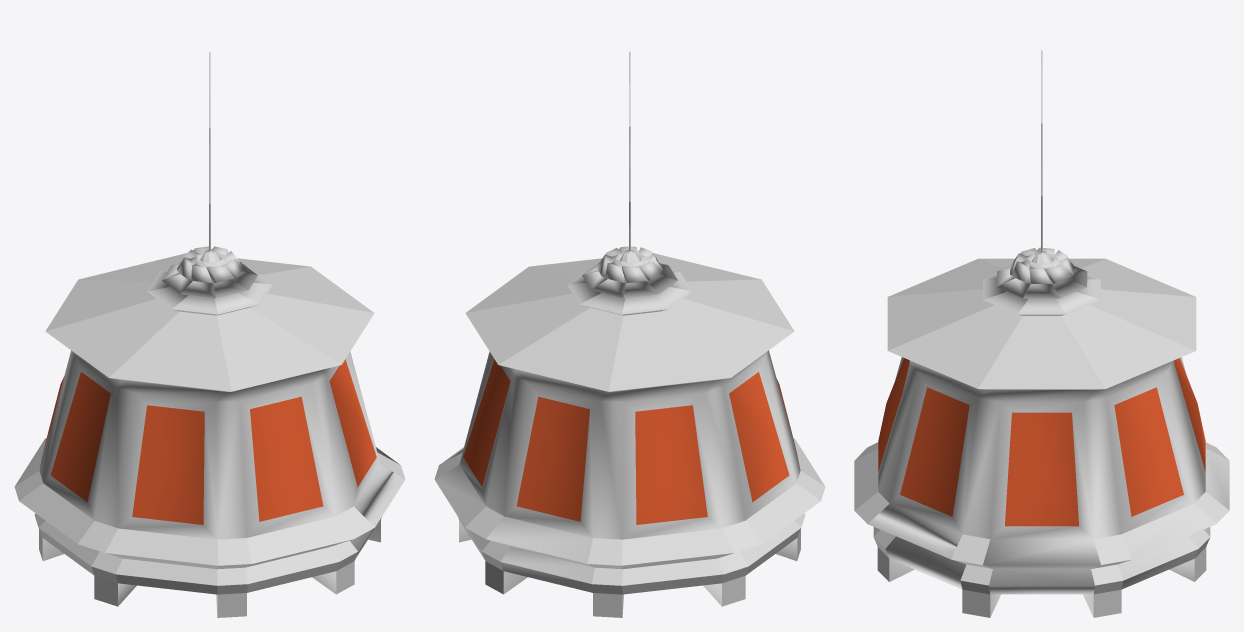
Rendered from Lightfire Top.fbx.
The picture shows the model from 3 angles, left to right: view 1: azimuth 30°, elevation 25°; view 2: azimuth 150°, elevation 25°; view 3: azimuth 270°, elevation 25°; orthographic projection.
Visible parts, largest first — view 1: lighthouse; view 2: lighthouse; view 3: lighthouse.
Boxes of the visible parts, box(x1,y1,x2,y2) form: lighthouse: box(14, 52, 405, 617); lighthouse: box(434, 52, 825, 617); lighthouse: box(854, 50, 1229, 617).
Size of the model in its own units: 1646 by 2587 by 1646.
